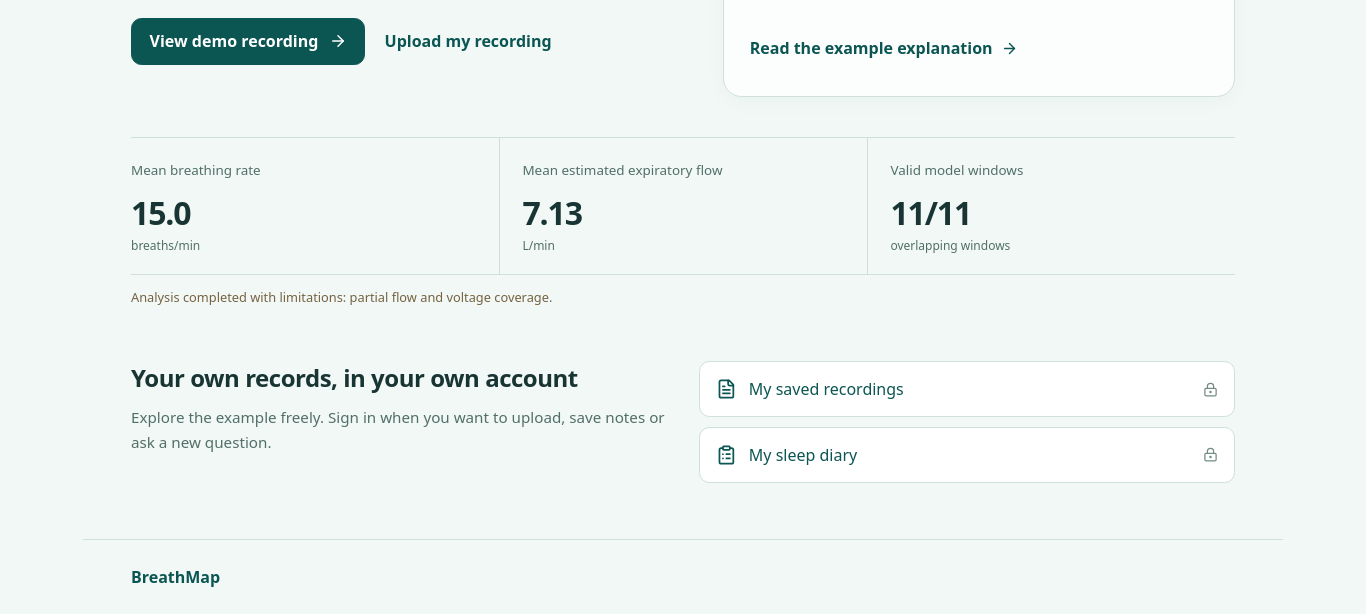
it: public guest preview › gates overview / My sleep diary before any account action
(page scrolled)
Click the button "My sleep diary" at (803, 455), box [699, 427, 1235, 483]
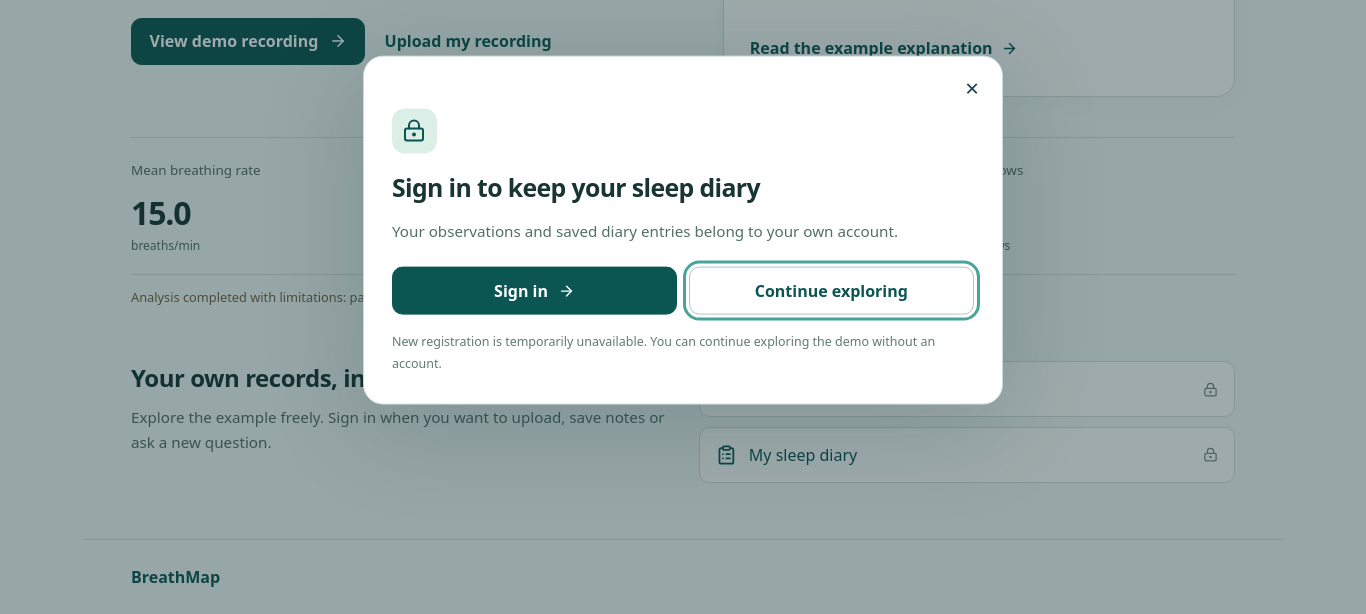
Result: the dialog is shown at [363, 56, 1003, 404]
Result: the dialog shows "New registration is temporarily unavailable" at [392, 332, 935, 372]
Click the button "Continue exploring" at (831, 291), box [689, 267, 974, 314]
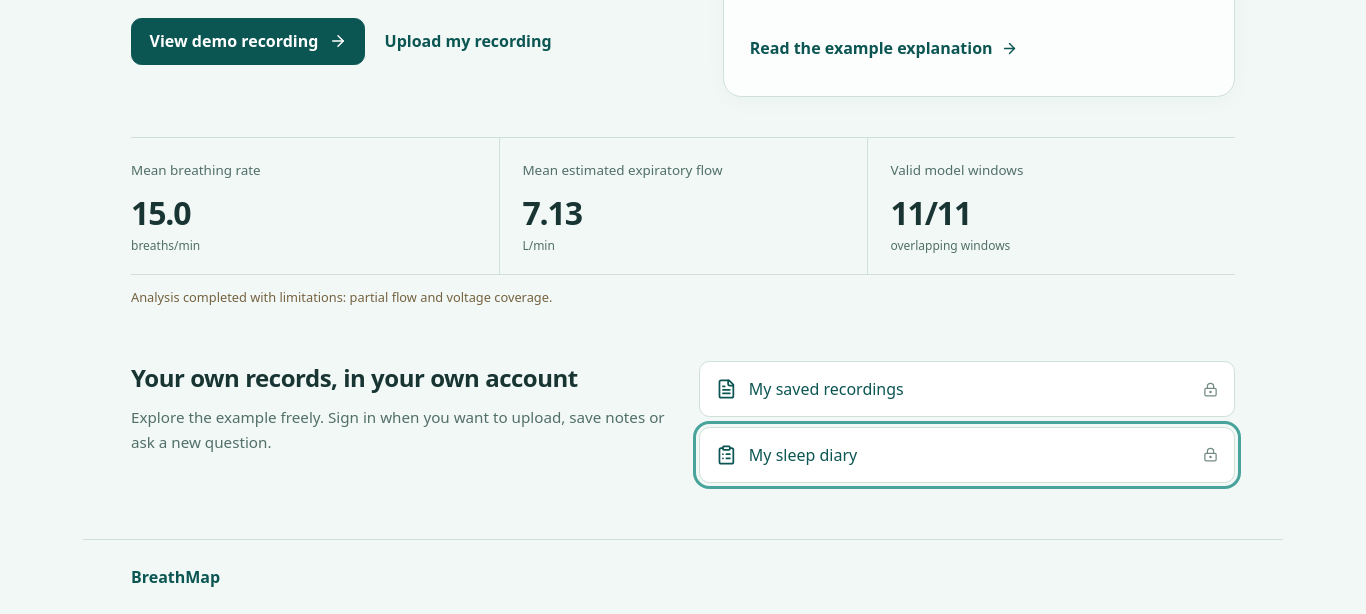
Result: the button "×" is gone
